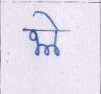o_matra: (49, 14, 63, 55)
